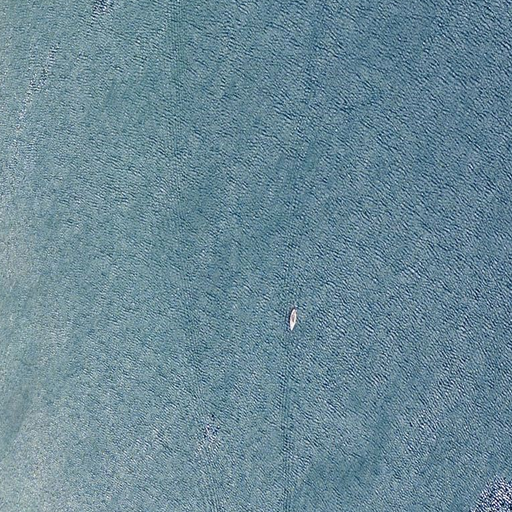ship: (289, 309, 298, 332)
